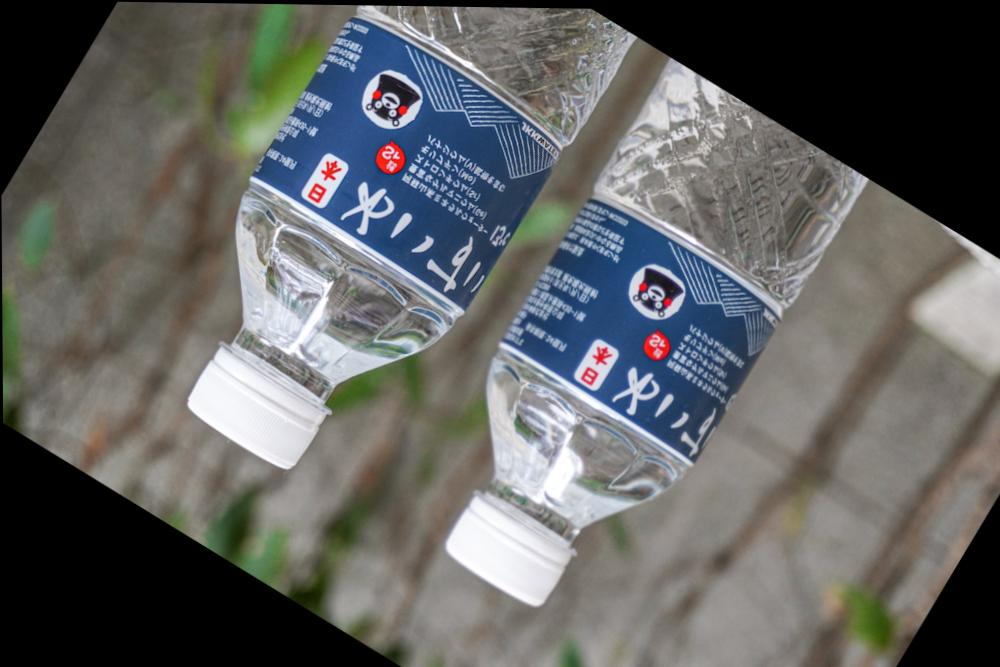plastic: (384, 50, 874, 649), (126, 2, 643, 517)
